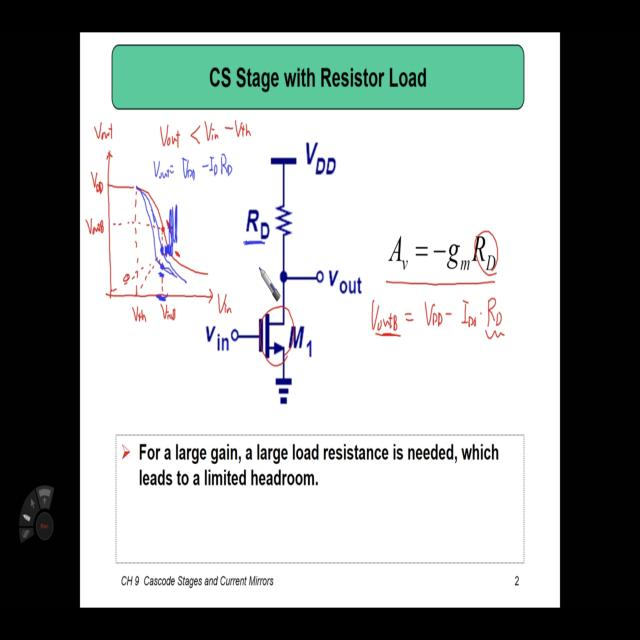panseo: (86, 111, 253, 323), (366, 294, 512, 349)
